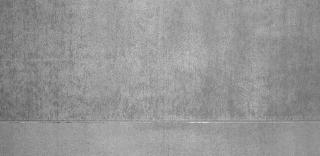silk spot: (3, 5, 316, 116)
welding line: (1, 115, 320, 127)
